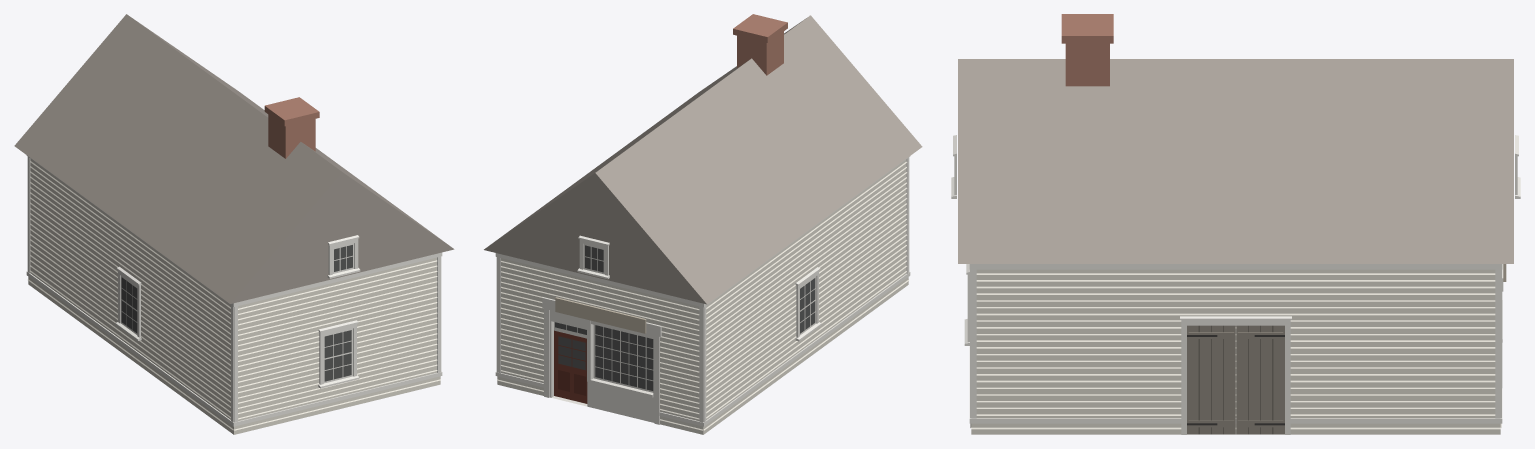
Rendered from recon_1835_gifford_c2_009__inferred_1835.glb.
3 renders of one model, left to right at view 1: azimuth 30°, elevation 25°; view 2: azimuth 150°, elevation 25°; view 3: azimuth 270°, elevation 25°, orthographic. The views are drawn at different scales.
Visible parts, largest first — view 1: recon_1835_gifford_c2_009__inferred_1835; view 2: recon_1835_gifford_c2_009__inferred_1835; view 3: recon_1835_gifford_c2_009__inferred_1835.
Part boxes in pixels (<box>): recon_1835_gifford_c2_009__inferred_1835: <box>14,14,454,434</box>; recon_1835_gifford_c2_009__inferred_1835: <box>484,14,922,434</box>; recon_1835_gifford_c2_009__inferred_1835: <box>951,14,1520,434</box>.
Bounding box in the file's own units: 6.3 × 7.18 × 10.75.
